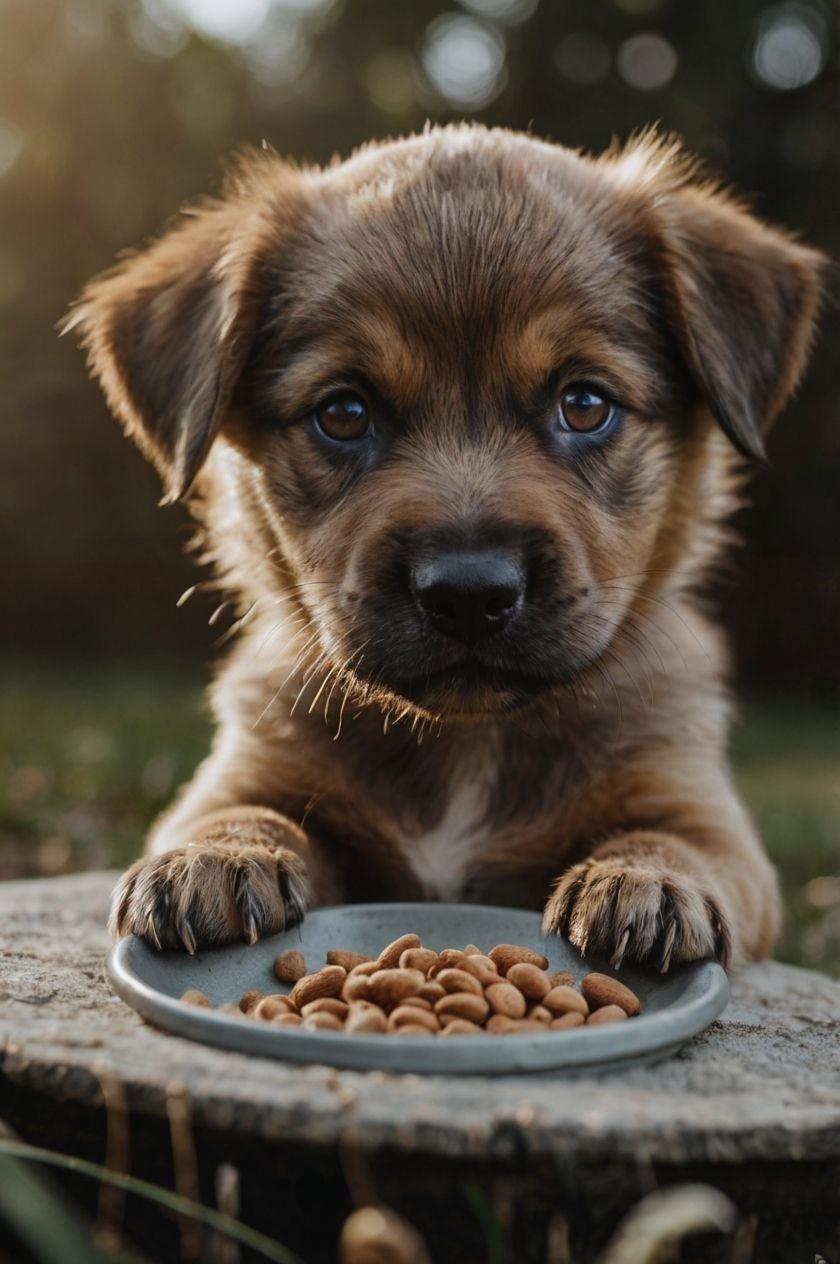puppy-dog: (56, 112, 837, 984)
